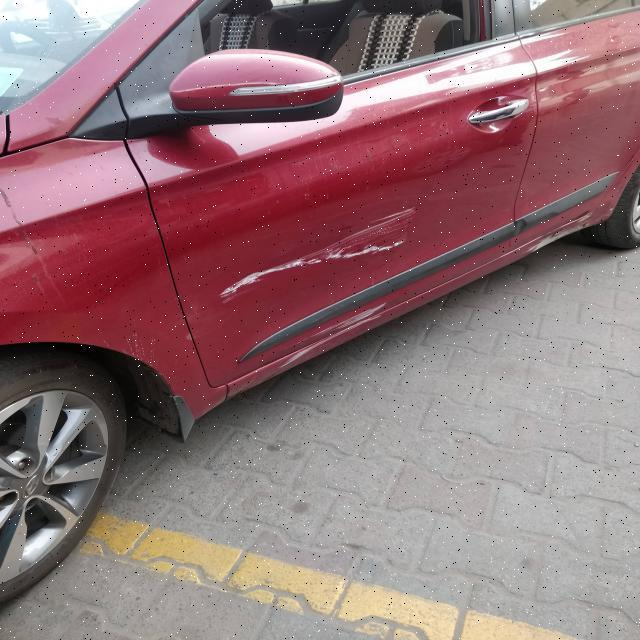doorouter-dent: (194, 110, 522, 388)
